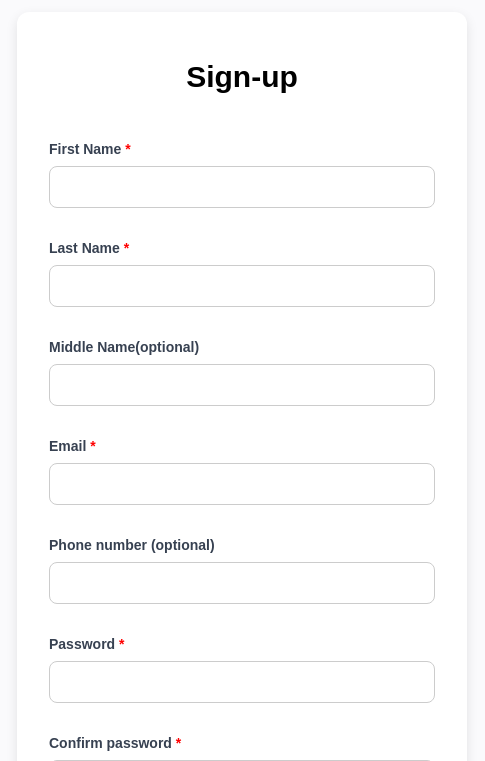
Test: maps backend status code to correct user-facing error message › renders correct error message for status 400
// Fill Required fields
In the field labelled "First Name": (242, 187) [49,166,435,208], type "Joe"
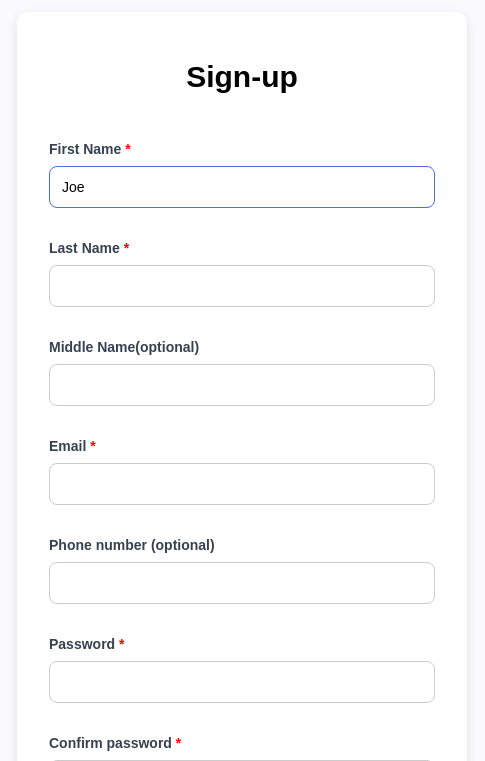
In the field labelled "Last Name": (242, 286) [49,265,435,307], type "Bloggs"
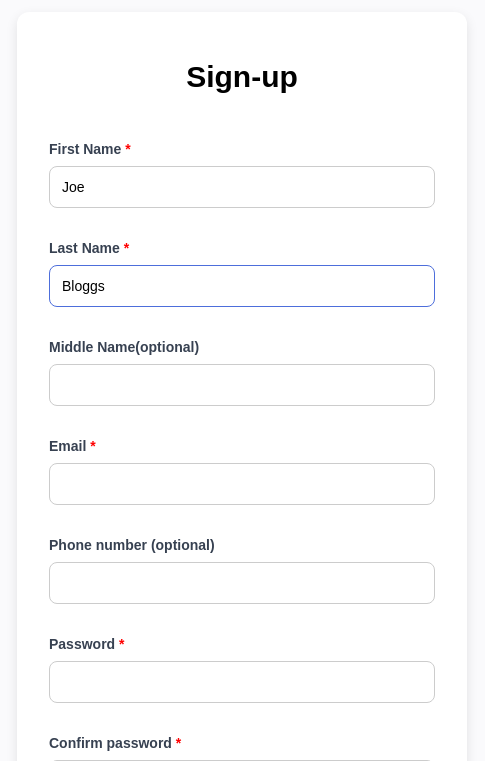
In the field labelled "Email": (242, 484) [49,463,435,505], type "joebloggs@gmail.com"
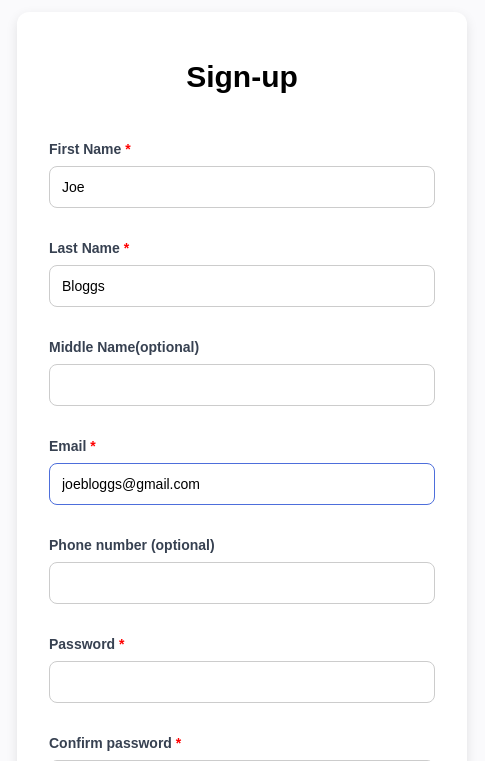
In the password field labelled "Password": (242, 682) [49,661,435,703], type "testPassword123$"
(page scrolled)
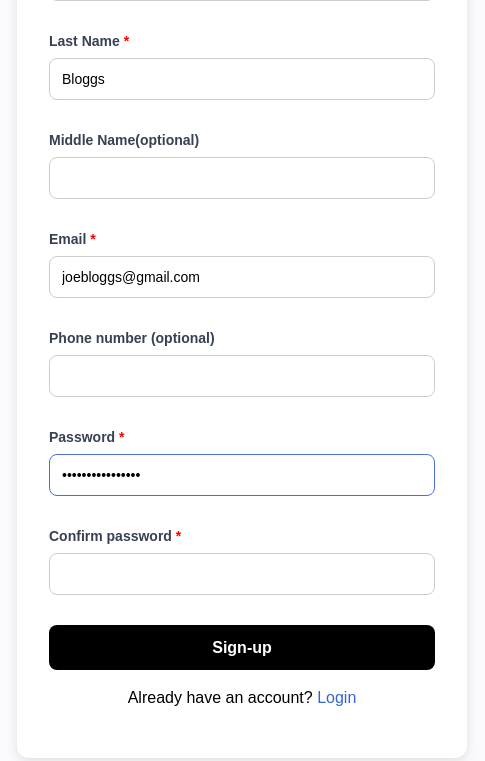
In the password field labelled "Confirm password": (242, 574) [49,553,435,595], type "testPassword123$"
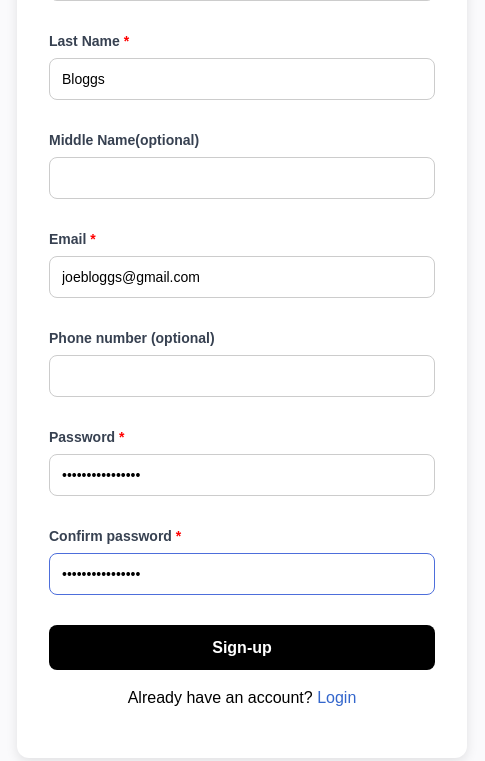
// Submit form
Click the button "Sign-up": (242, 648) [49,625,435,670]
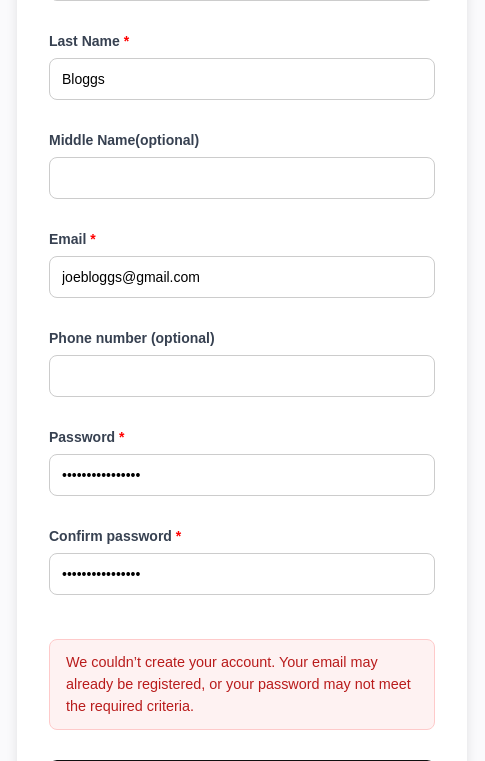
Now the text "We couldn’t create your account. Your email may already be registered, or your password may not meet the required criter" is shown, box [66,654,411,714]
